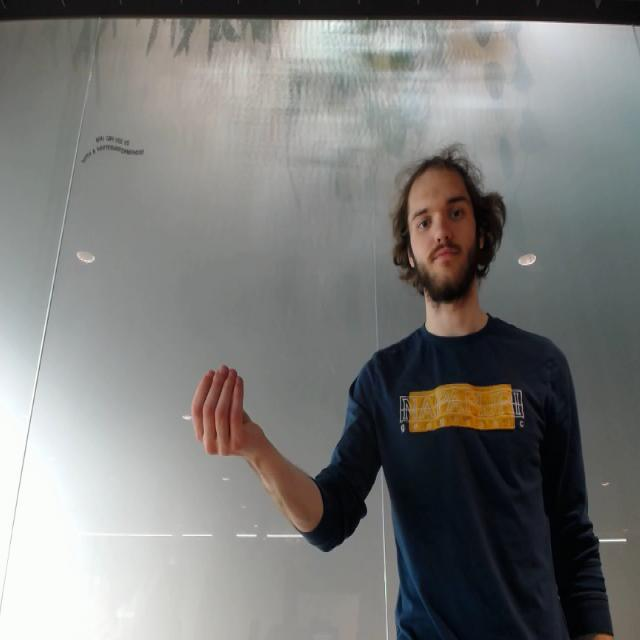forward: (186, 360, 264, 472)
